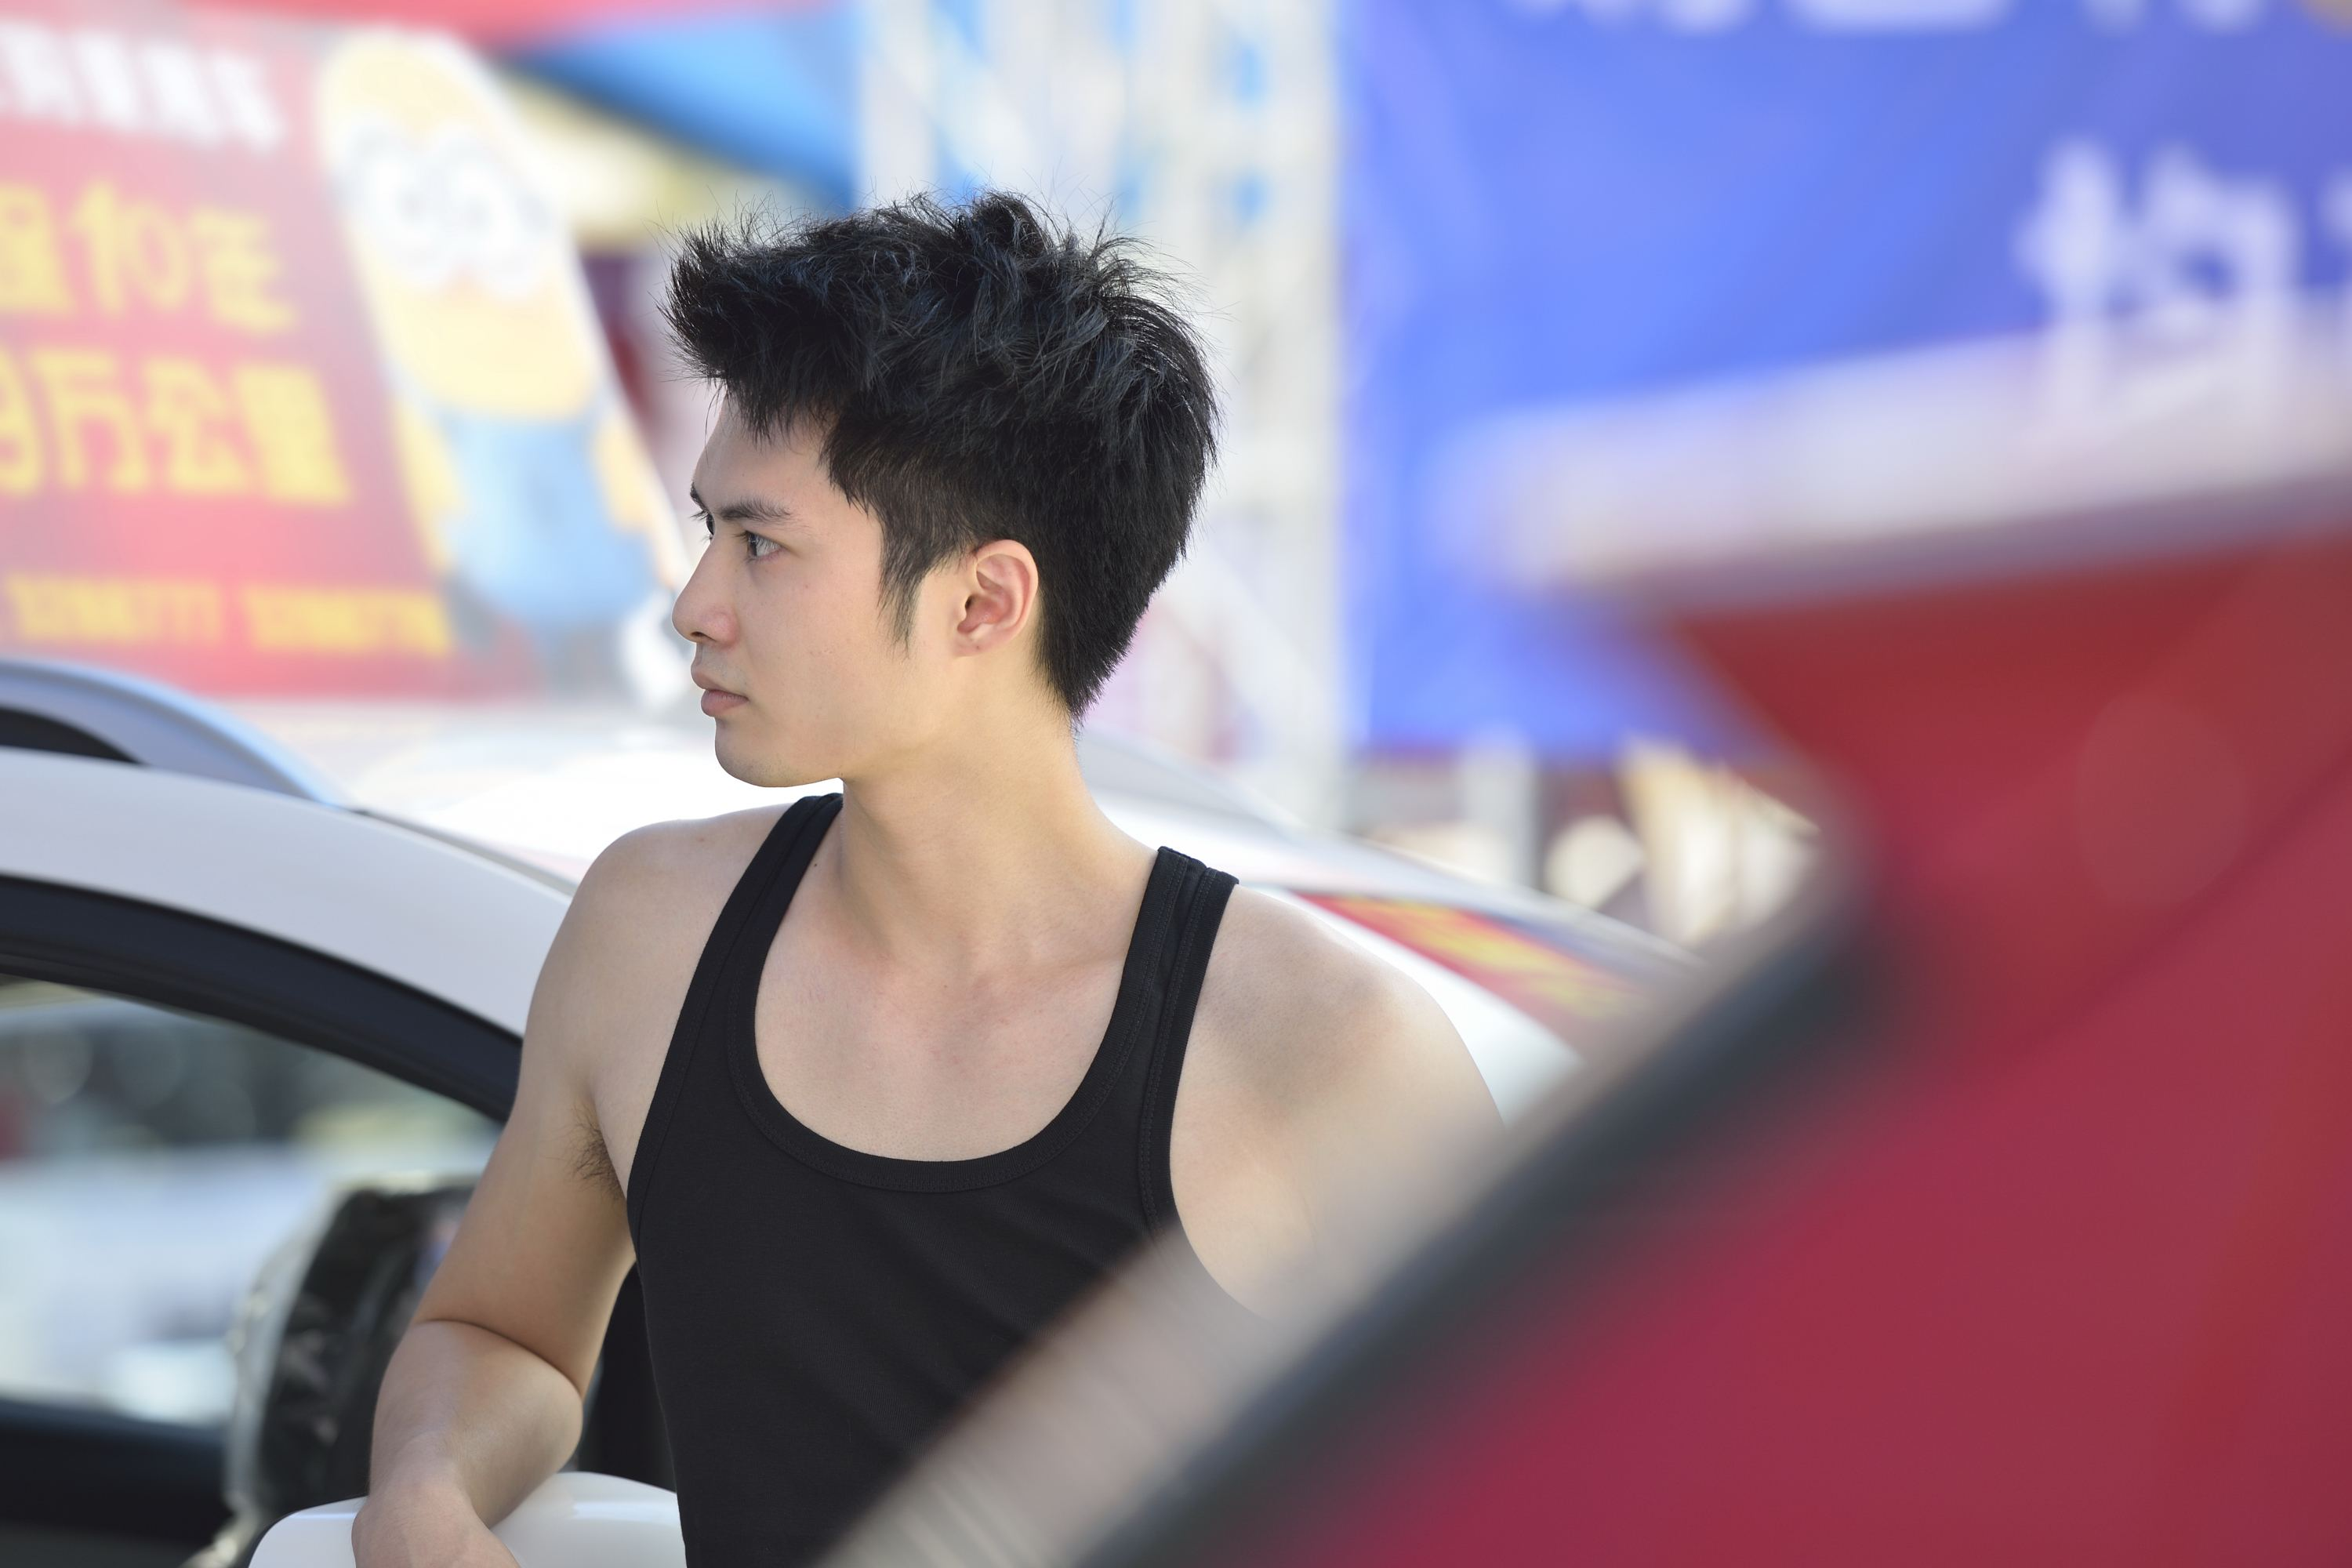person: (625, 211, 1451, 1535)
